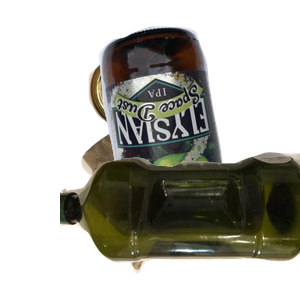glass: (97, 24, 300, 204)
metal: (86, 46, 248, 169)
plastic: (60, 149, 300, 300)
trash: (79, 123, 281, 300)
